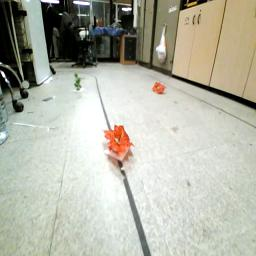herb: (73, 73, 84, 89)
wild: (103, 123, 136, 155), (152, 81, 168, 95)
